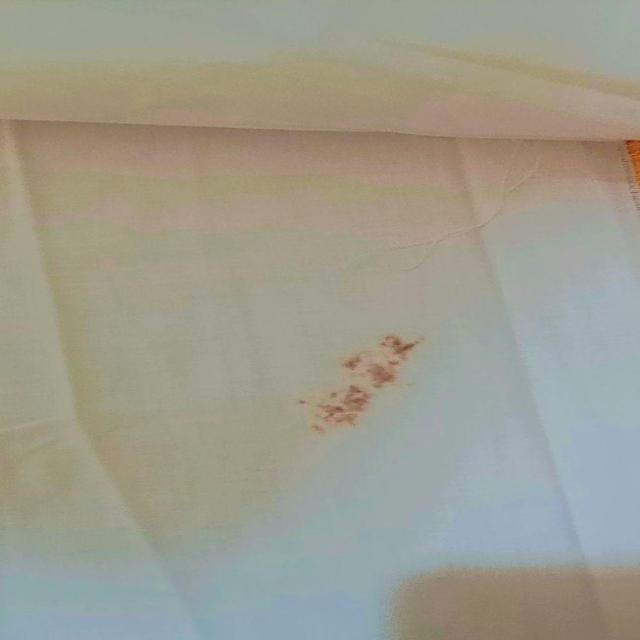stain: (283, 315, 433, 444)
